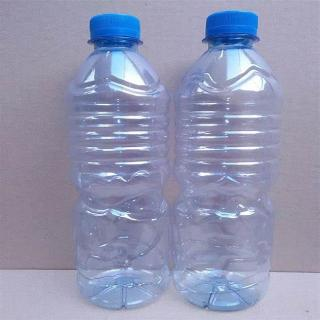Anorganik: (176, 8, 280, 315), (64, 13, 169, 309)
